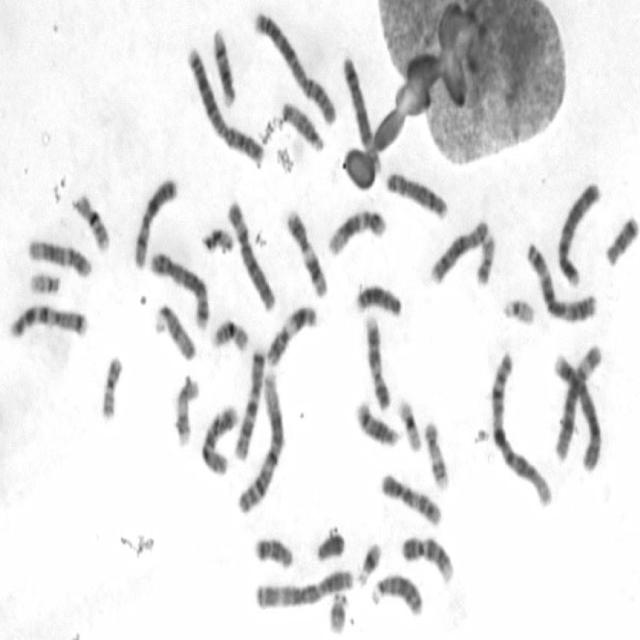A1: (487, 346, 555, 509), (234, 367, 286, 515)
A2: (251, 6, 338, 126), (183, 42, 265, 167)
A3: (523, 237, 599, 324), (252, 563, 355, 610)
B4: (552, 352, 603, 473), (554, 175, 603, 288)
B5: (145, 246, 211, 332), (340, 53, 382, 177)
C10: (377, 466, 443, 529), (197, 399, 240, 478)
C11: (284, 206, 329, 300), (264, 300, 318, 368)
C12: (324, 202, 388, 256), (25, 233, 94, 279)
C6: (551, 342, 603, 468), (223, 193, 277, 314)
C7: (232, 342, 266, 462), (6, 298, 88, 340)
C8: (428, 215, 490, 285), (383, 167, 450, 220)
C9: (396, 527, 456, 586), (362, 310, 392, 412)
D13: (368, 567, 426, 618), (353, 278, 403, 319)
D14: (353, 396, 401, 448), (209, 24, 236, 107)
D15: (152, 297, 198, 363), (278, 95, 326, 153)
E16: (70, 190, 110, 252), (209, 314, 251, 354)
E17: (170, 370, 201, 450), (421, 415, 451, 491)
E18: (602, 209, 639, 267), (251, 530, 295, 572)
F19: (393, 392, 424, 453), (202, 225, 235, 254)
F20: (97, 349, 125, 422), (473, 230, 498, 288)
G21: (353, 535, 384, 587), (325, 585, 350, 636)
G22: (500, 291, 536, 326), (26, 265, 62, 296)
X: (130, 172, 179, 270)
Y: (313, 526, 346, 562)
